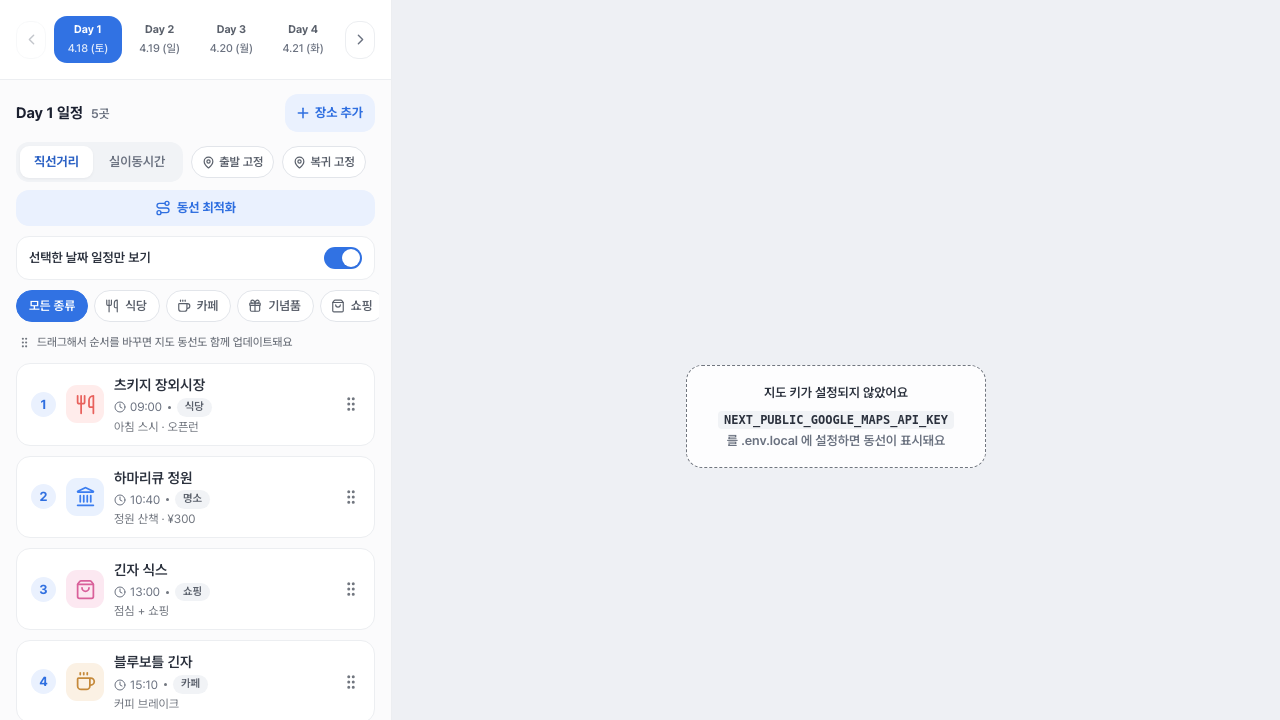
PlanView › 날짜 전환 시 해당 날 일정으로 갱신된다
The image size is (1280, 720).
Expected: the text "츠키지 장외시장" is shown, x1=114 y1=376 x2=205 y2=393
Click the button "Day 2 4.19 (일)": [160, 40] box x1=126 y1=16 x2=194 y2=63
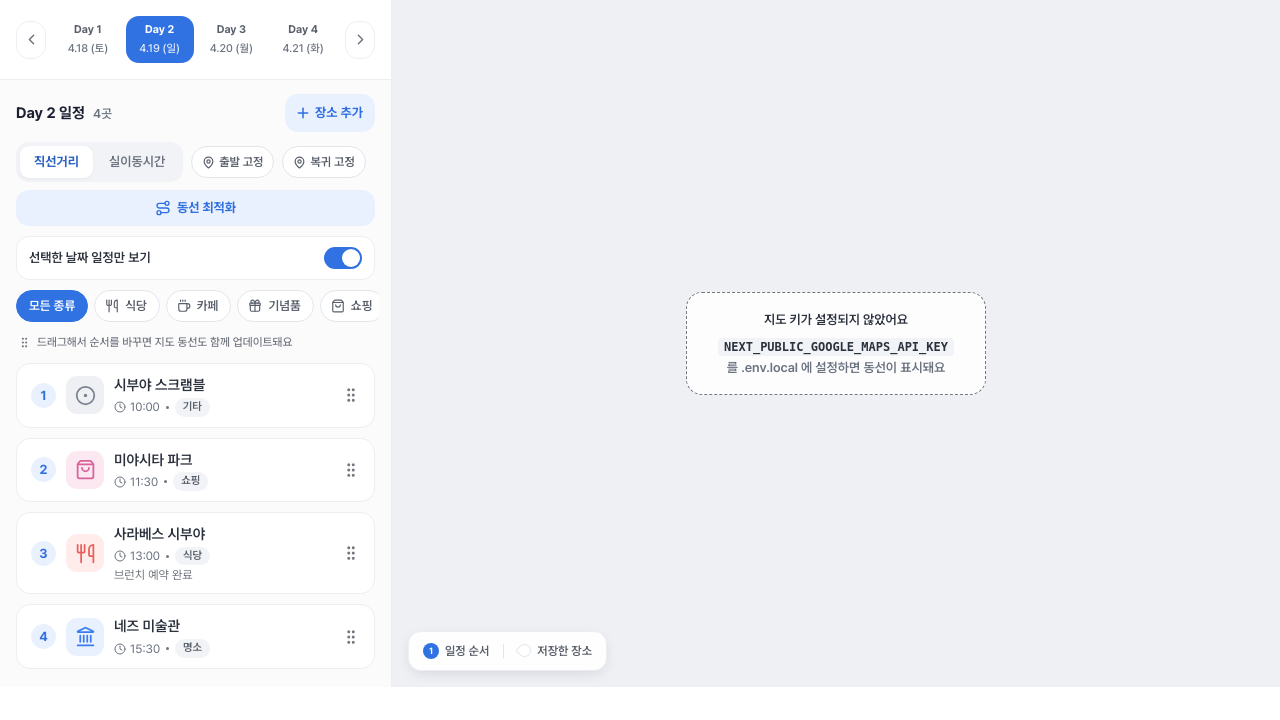
Expected: the text "시부야 스크램블" is shown, x1=114 y1=376 x2=205 y2=393
Expected: the button "츠키지 장외시장" is gone
